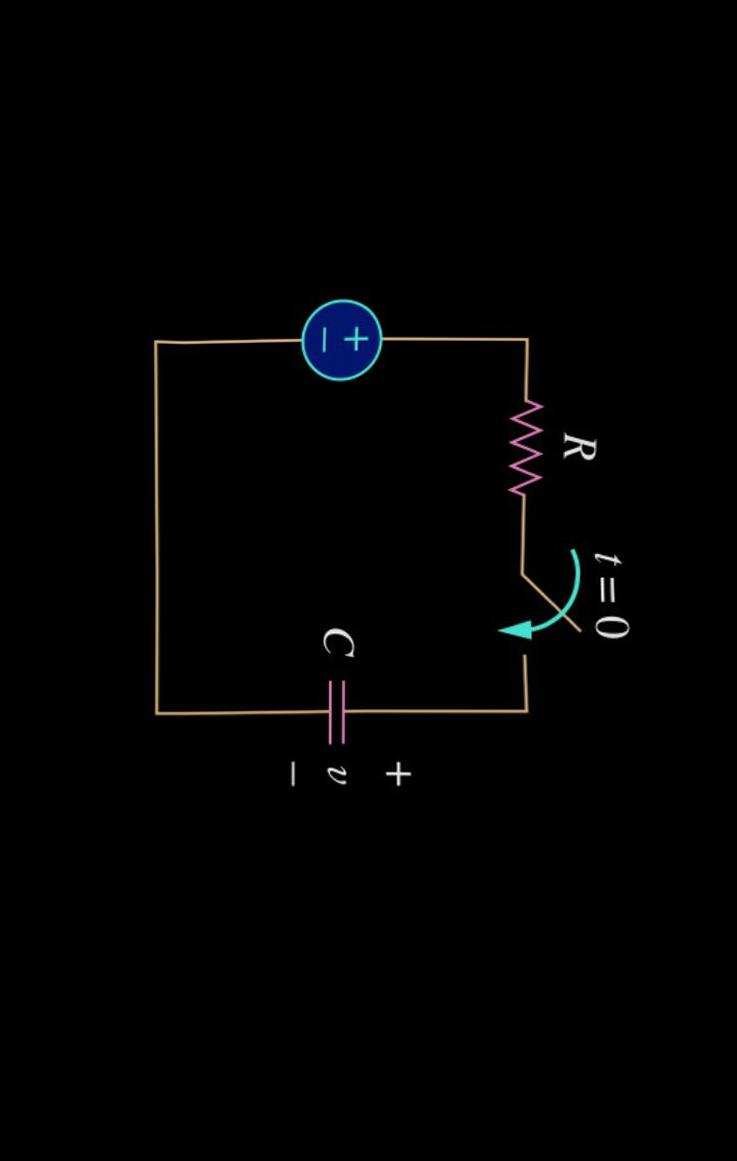Battery: (264, 267, 411, 434)
